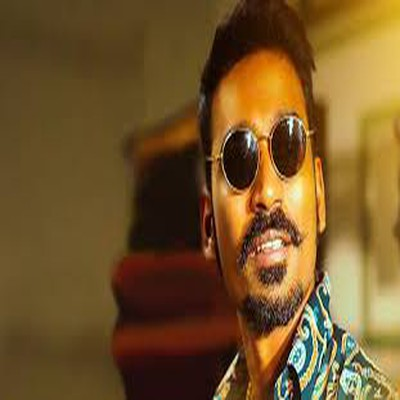eywear: (214, 124, 339, 200)
